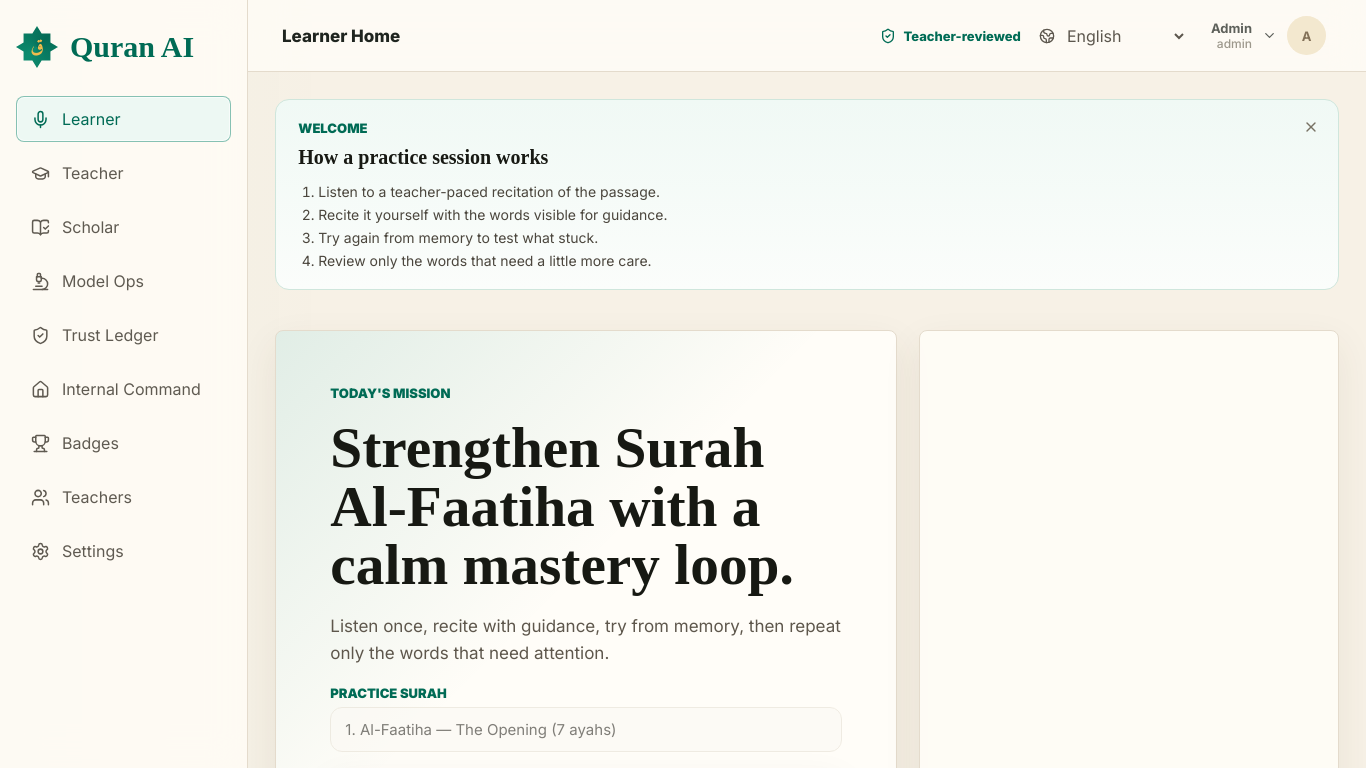
Test: Quran AI app smoke › validates Surah selection and sidebar navigation path transitions
The width and height of the screenshot is (1366, 768).
Click the button "Settings" at (124, 551), box x1=16 y1=528 x2=231 y2=574
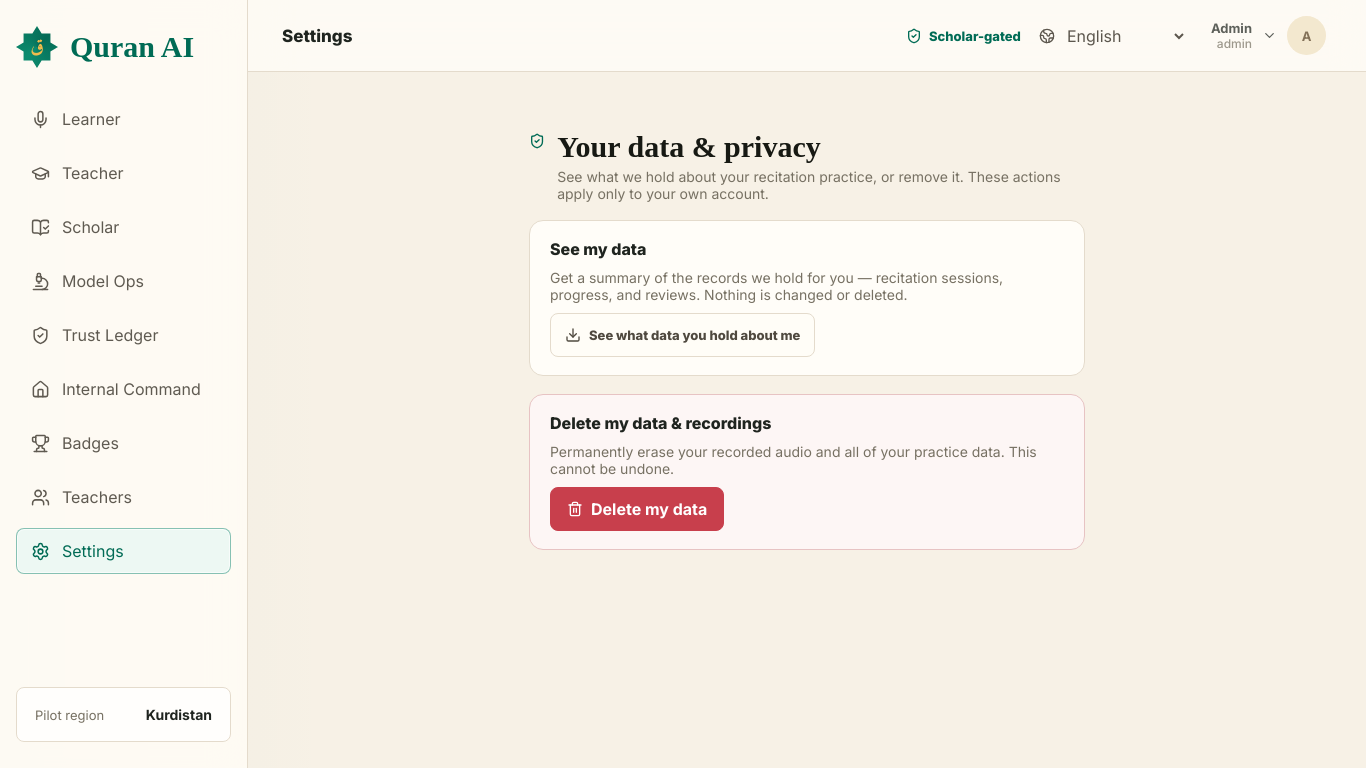
Now the text "Your data & privacy" is shown, box x1=557 y1=130 x2=821 y2=163
Click the button "Learner" at (124, 119), box x1=16 y1=96 x2=231 y2=142
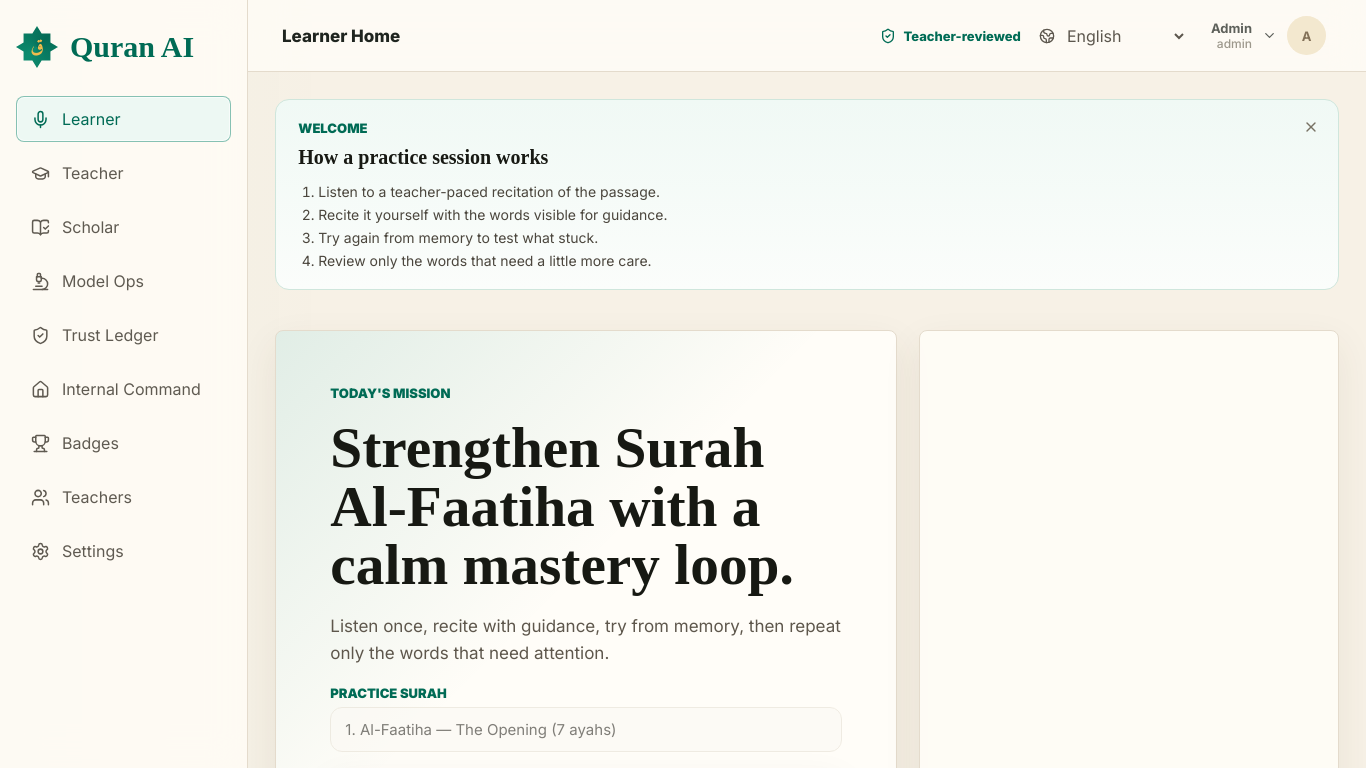
Now the text "Learner Home" is shown, box x1=282 y1=26 x2=400 y2=46
